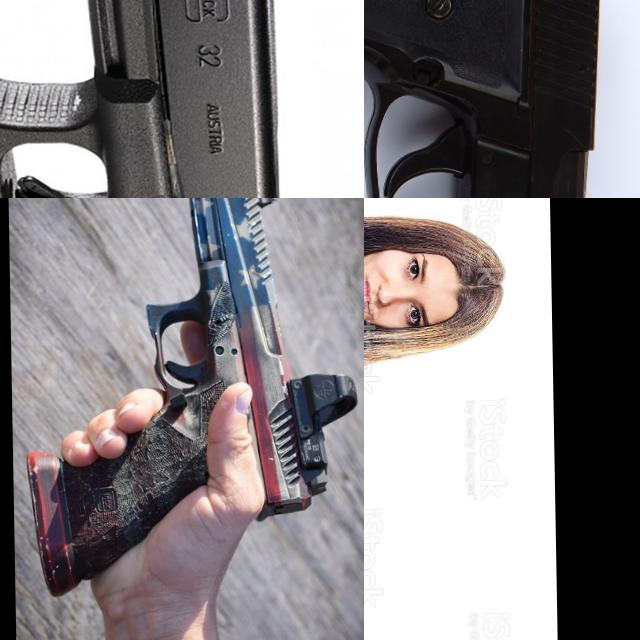handgun: (16, 198, 363, 600), (0, 0, 312, 198), (364, 0, 624, 198), (364, 286, 398, 324)
